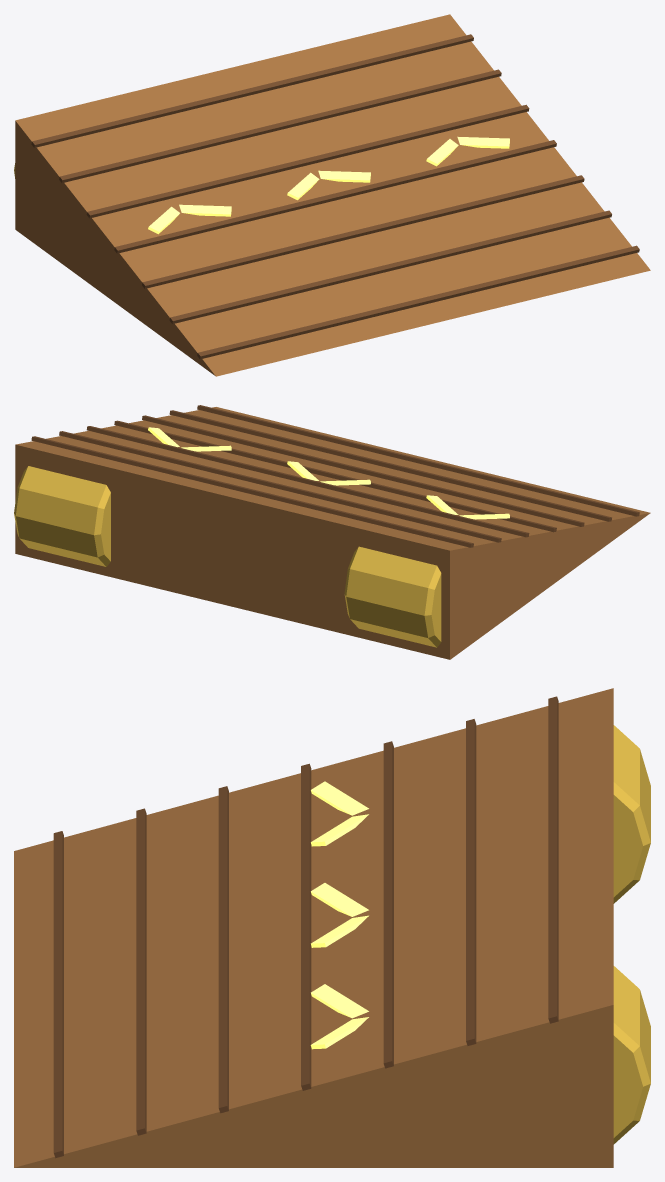
The model's file is ramp.glb.
The picture shows the model from 3 angles, top to bottom: view 1: azimuth 30°, elevation 25°; view 2: azimuth 150°, elevation 25°; view 3: azimuth 270°, elevation 25°; orthographic projection. The views are drawn at different scales.
Visible parts, largest first — view 1: Ramp; view 2: Ramp; view 3: Ramp.
Boxes of the visible parts, left/top/right/bottom form: Ramp: left=14, top=14, right=650, bottom=376; Ramp: left=14, top=405, right=650, bottom=659; Ramp: left=14, top=688, right=650, bottom=1167.
Bounding box in the file's own units: 5.05 × 1.2 × 4.25.
